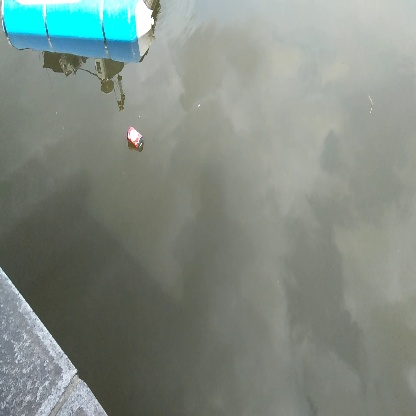bottle: (123, 124, 149, 150)
